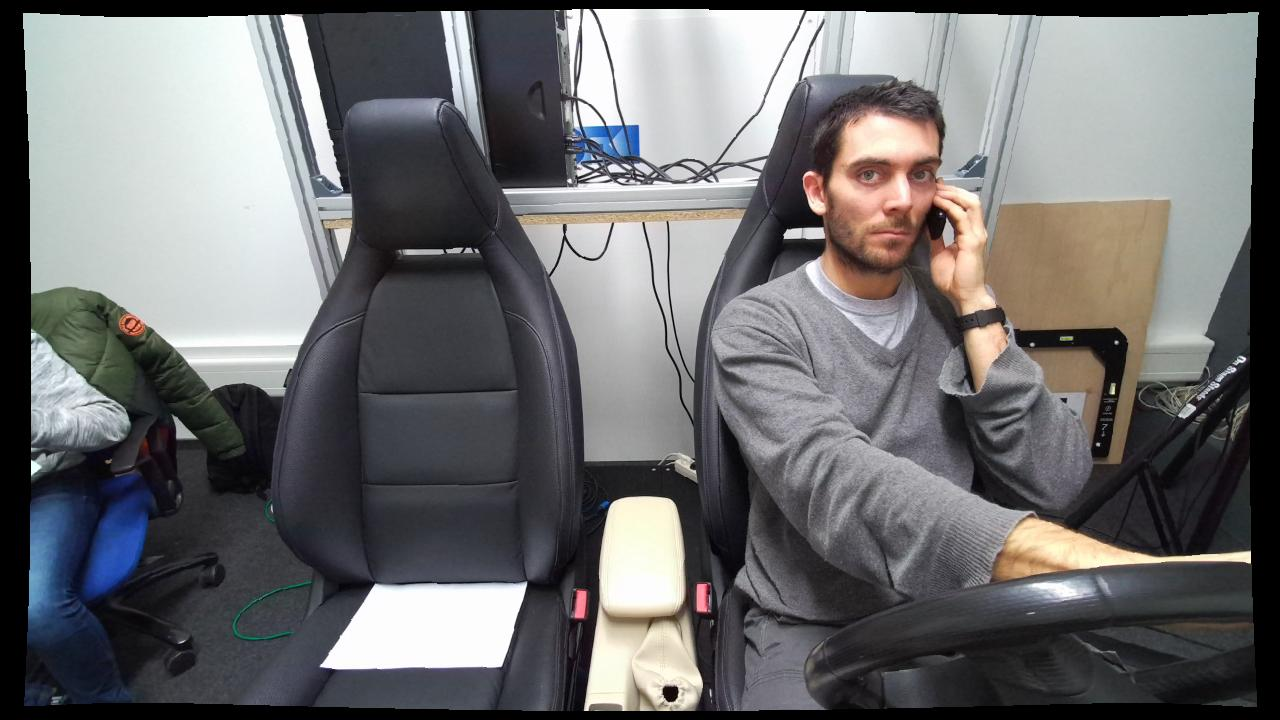PhoneUse: (864, 144, 991, 309)
